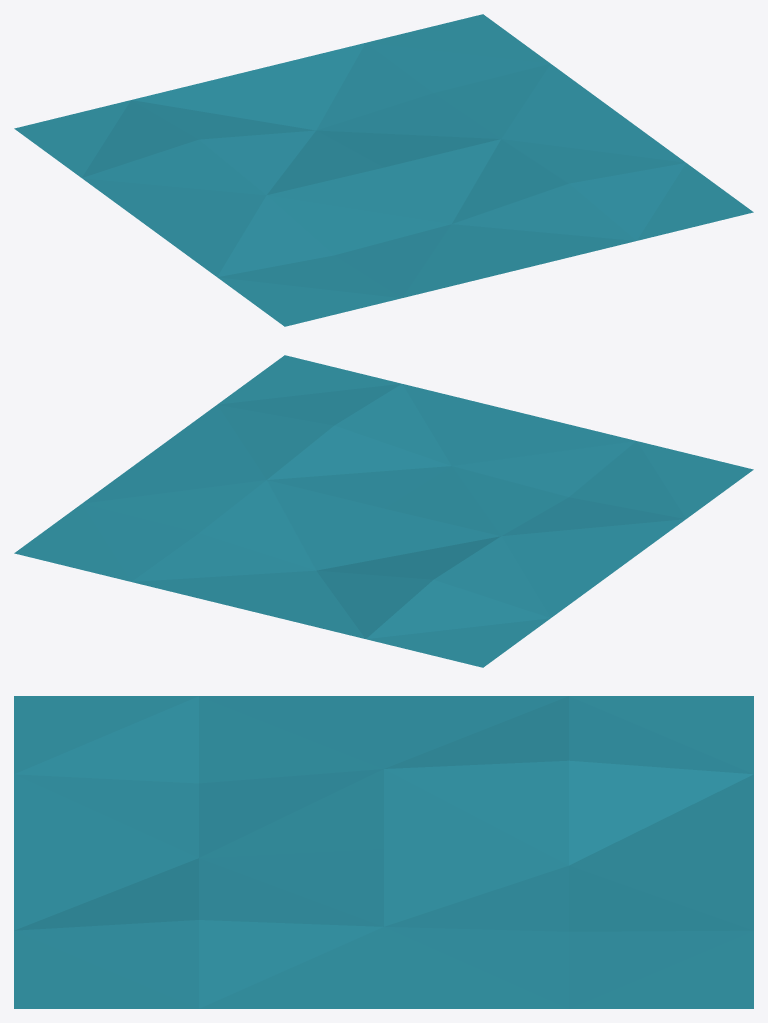
The model's file is water_tile.glb.
3 views of the same model, one above another, from view 1: azimuth 30°, elevation 25°; view 2: azimuth 150°, elevation 25°; view 3: azimuth 270°, elevation 25° (orthographic). The views are drawn at different scales.
Visible parts, largest first — view 1: water; view 2: water; view 3: water.
Part boxes in pixels (box(x1,y1,x2,y2)): water: box(14, 14, 753, 326); water: box(14, 355, 753, 667); water: box(14, 696, 753, 1008).
Bounding box in the file's own units: 4 × 0.159 × 4.
